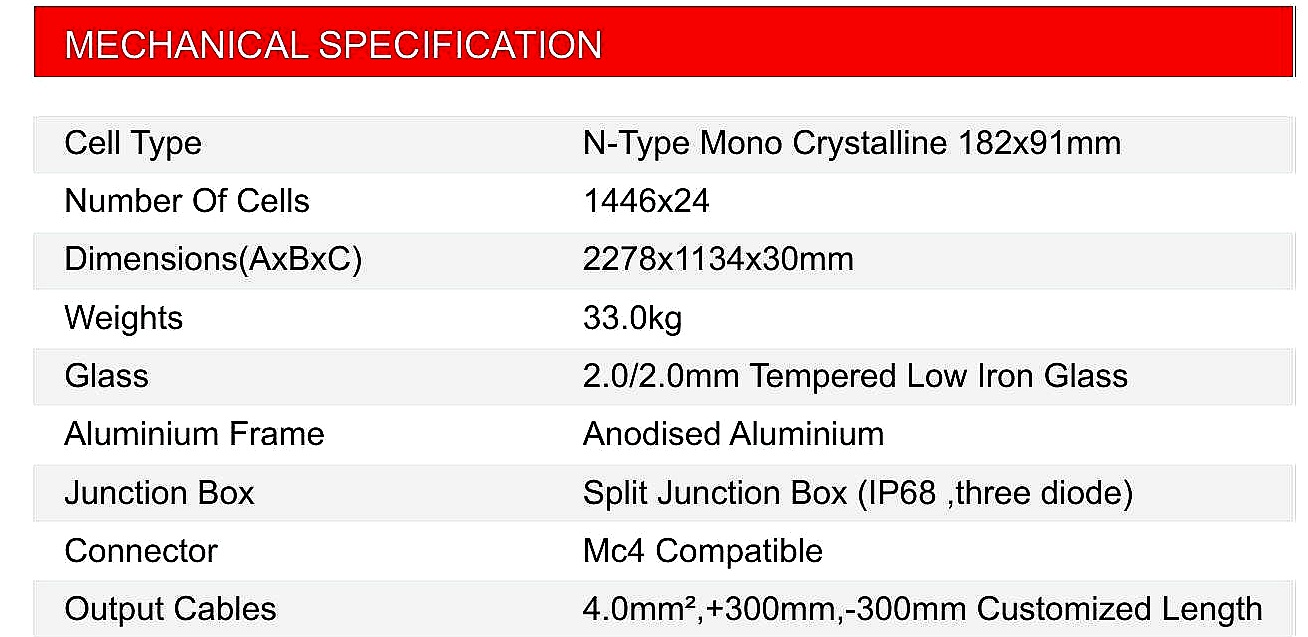table: (28, 3, 1308, 637)
table column: (544, 7, 1293, 634), (35, 8, 546, 635)
table name: (35, 13, 1290, 74)
table row: (32, 6, 1293, 74), (35, 118, 1294, 176), (40, 405, 1296, 463), (43, 349, 1298, 405), (35, 178, 1297, 232), (37, 235, 1299, 289), (38, 467, 1292, 521), (36, 293, 1302, 346), (38, 580, 1299, 632), (37, 525, 1295, 576)
table row header: (35, 11, 543, 633)
table spanning cell: (35, 15, 1285, 75)
